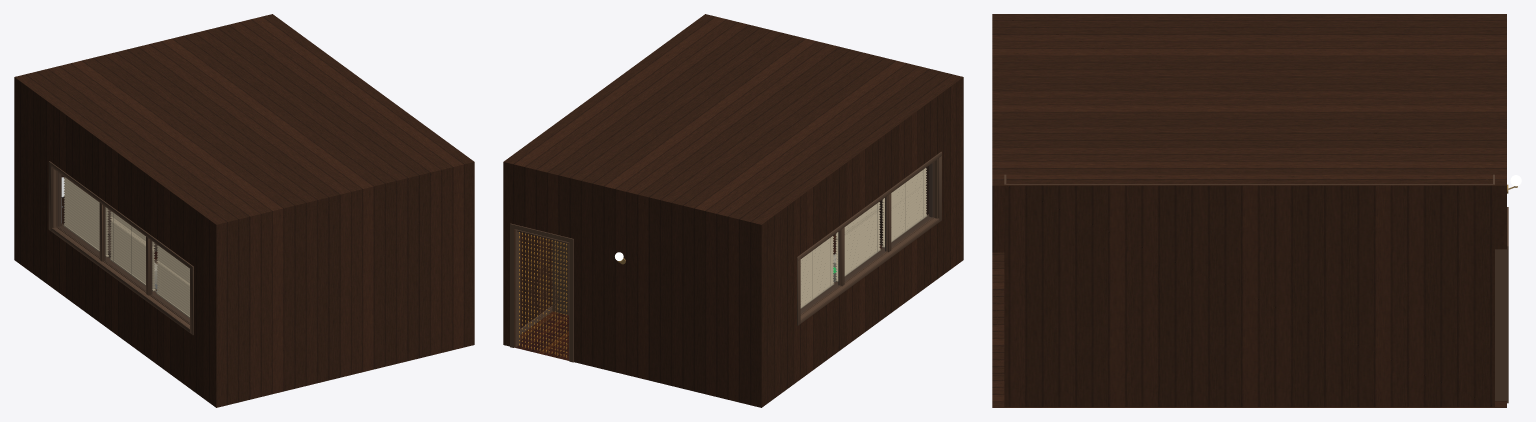
Rendered from flynns_office.glb.
The picture shows the model from 3 angles, left to right: view 1: azimuth 30°, elevation 25°; view 2: azimuth 150°, elevation 25°; view 3: azimuth 270°, elevation 25°; orthographic projection. The views are drawn at different scales.
Visible parts, largest first — view 1: Outside/Flynns/Office/Office_Walls, Outside/Flynns/Office/Props/WindowGlass, Outside/Flynns/Office/Props/WindowFrame, Outside/Flynns/Office/Props/Blinds_2, Outside/Flynns/Office/Props/Blinds_1, Outside/Flynns/Office/Props/Blinds_0; view 2: Outside/Flynns/Office/Office_Walls, Outside/Flynns/Office/Props/WindowGlass, Outside/Flynns/Office/Props/WindowFrame, Outside/Flynns/Office/Office_Trim, Outside/Flynns/Office/Props/BeadCurtain, Outside/Flynns/Office/Props/Blinds_1, Outside/Flynns/Office/Props/Blinds_0, Outside/Flynns/Office/Office_Floor, Outside/Flynns/Office/Props/Blinds_2, Outside/Flynns/Office/Props/Shelf; view 3: Outside/Flynns/Office/Office_Walls, Outside/Flynns/Office/Office_Trim.
Part boxes in pixels (box(x1,y1,x2,y2)): Outside/Flynns/Office/Office_Walls: box(14, 14, 474, 407); Outside/Flynns/Office/Props/WindowGlass: box(58, 173, 189, 322); Outside/Flynns/Office/Props/WindowFrame: box(48, 161, 193, 335); Outside/Flynns/Office/Props/Blinds_2: box(63, 177, 108, 257); Outside/Flynns/Office/Props/Blinds_1: box(110, 211, 155, 291); Outside/Flynns/Office/Props/Blinds_0: box(156, 245, 189, 317); Outside/Flynns/Office/Office_Walls: box(503, 14, 963, 407); Outside/Flynns/Office/Props/WindowGlass: box(801, 163, 932, 313); Outside/Flynns/Office/Props/WindowFrame: box(797, 151, 941, 325); Outside/Flynns/Office/Office_Trim: box(510, 223, 882, 362); Outside/Flynns/Office/Props/BeadCurtain: box(517, 230, 568, 357); Outside/Flynns/Office/Props/Blinds_1: box(835, 202, 880, 281); Outside/Flynns/Office/Props/Blinds_0: box(881, 168, 927, 247); Outside/Flynns/Office/Office_Floor: box(516, 234, 882, 360); Outside/Flynns/Office/Props/Blinds_2: box(800, 236, 834, 308); Outside/Flynns/Office/Props/Shelf: box(552, 240, 568, 315); Outside/Flynns/Office/Office_Walls: box(992, 14, 1506, 407); Outside/Flynns/Office/Office_Trim: box(1004, 174, 1508, 403).
Size of the model in its own units: 4.67 by 3.15 by 6.48.
8 materials, 5 textured.
